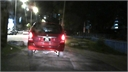Car: (23, 18, 68, 59)
